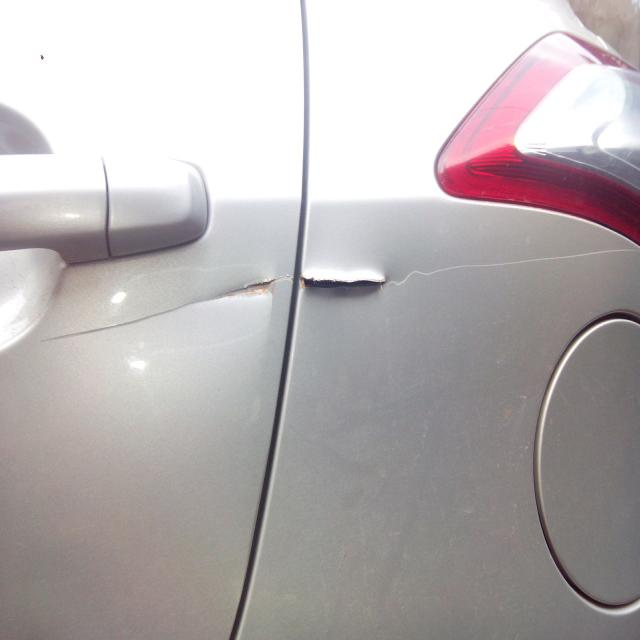scratch: (35, 272, 294, 343), (387, 246, 638, 288)
tear: (298, 267, 387, 298)
